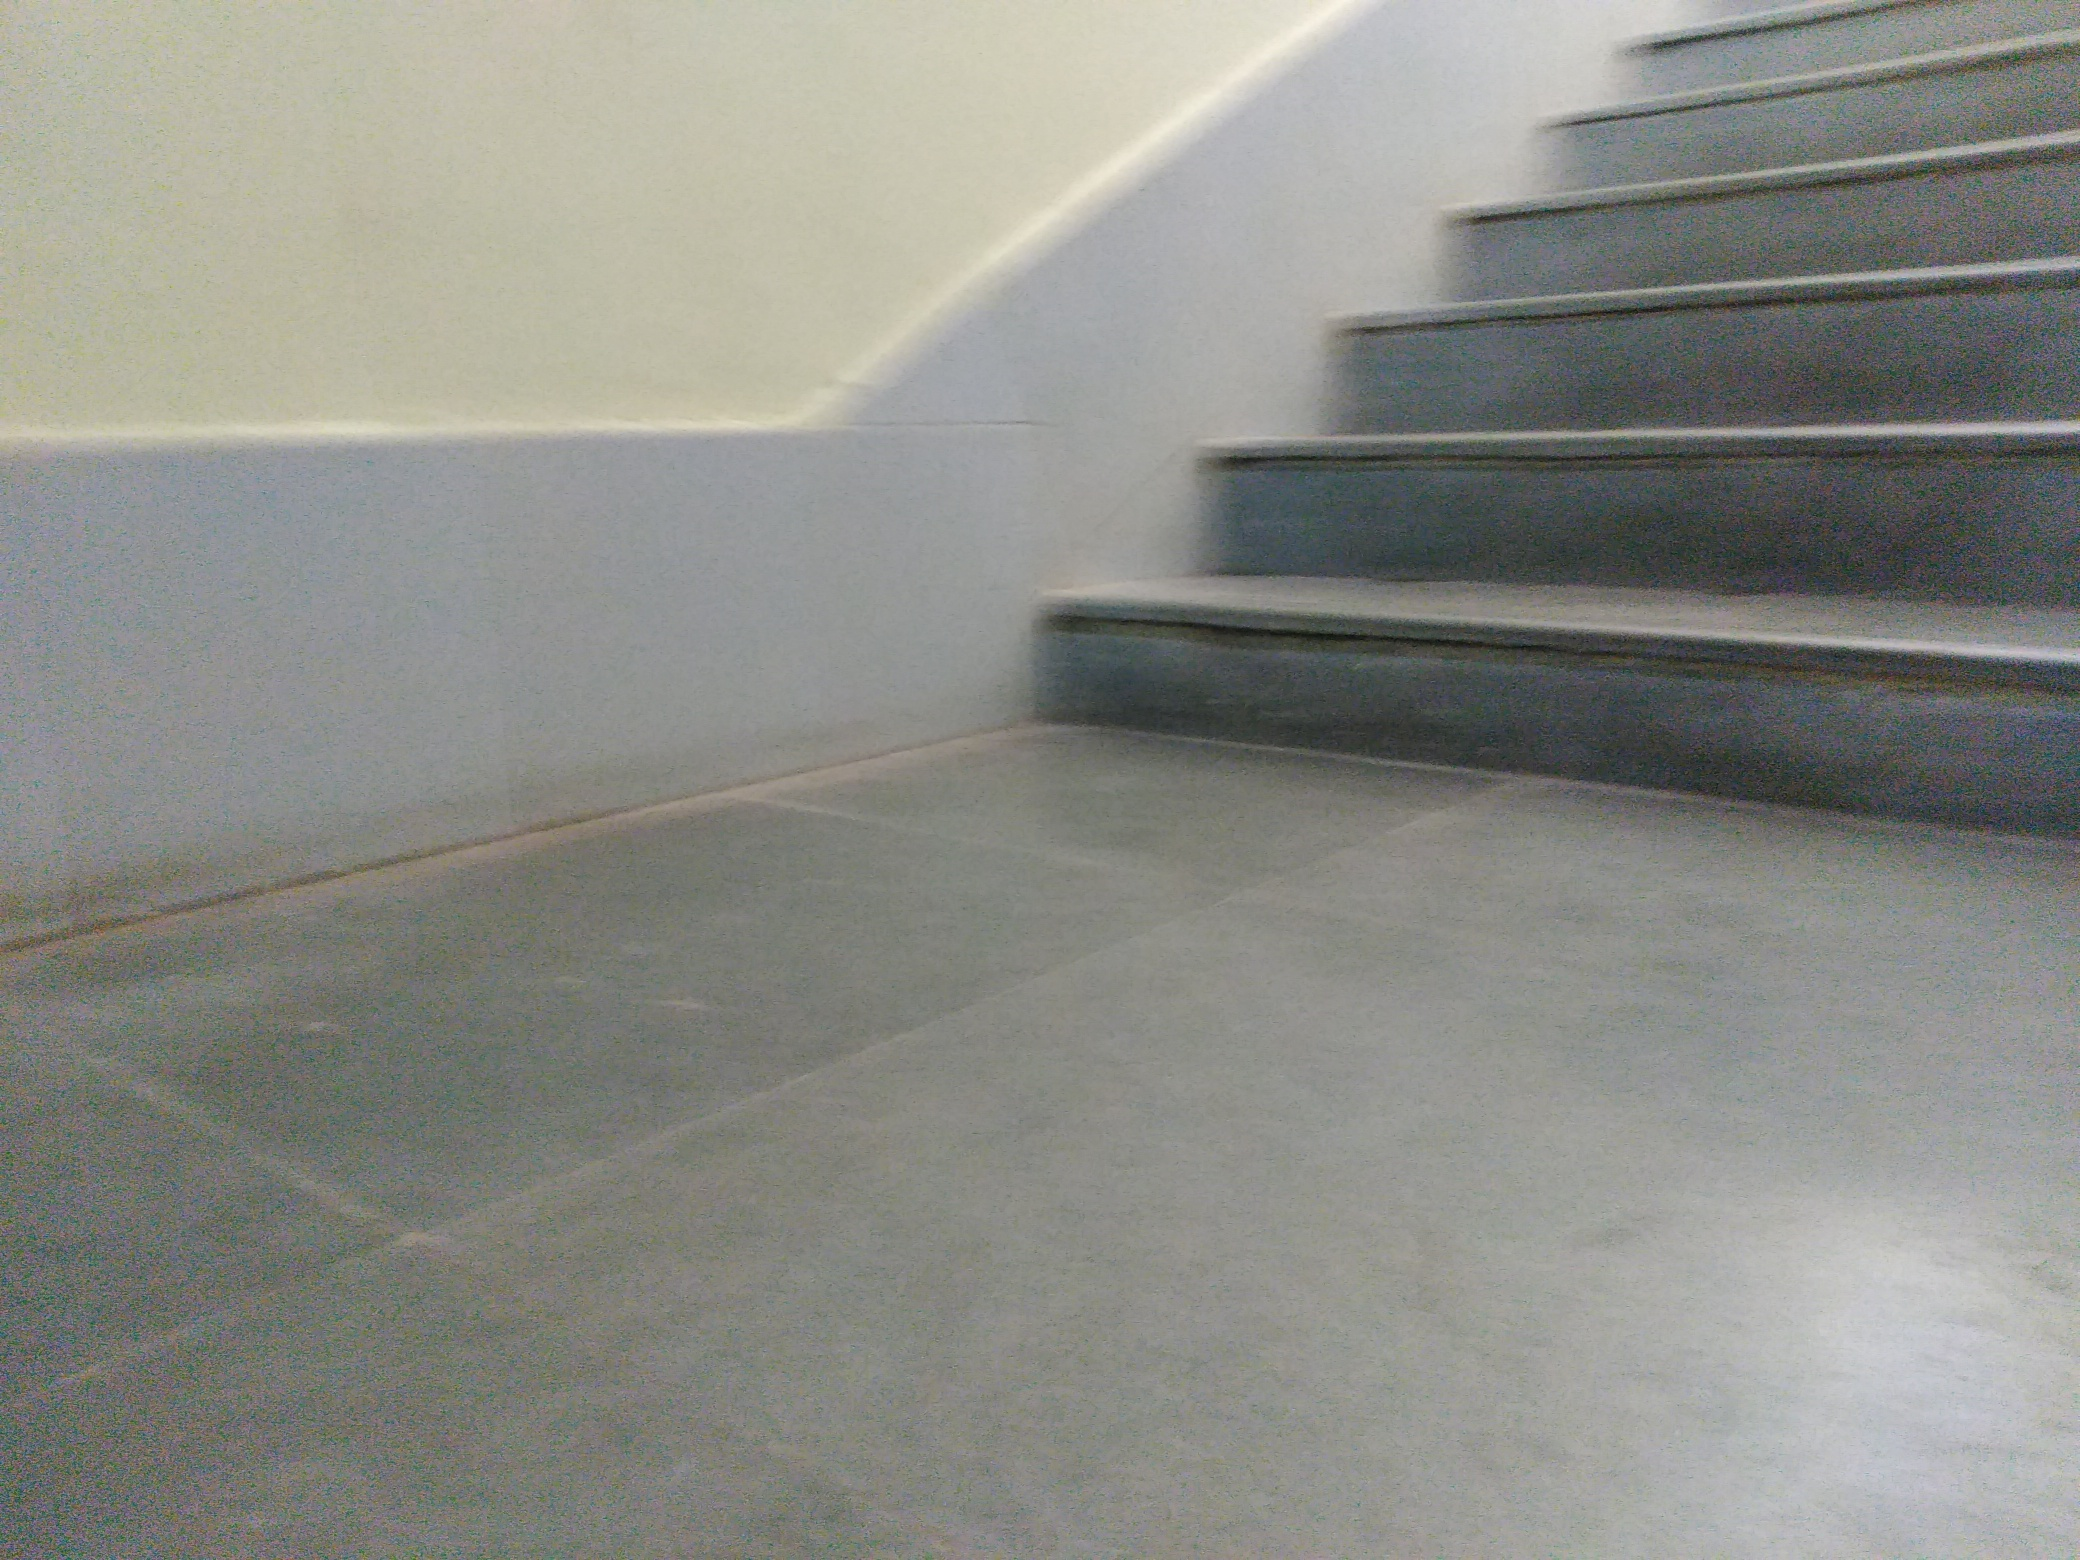stairs_up: (1037, 7, 2072, 806)
